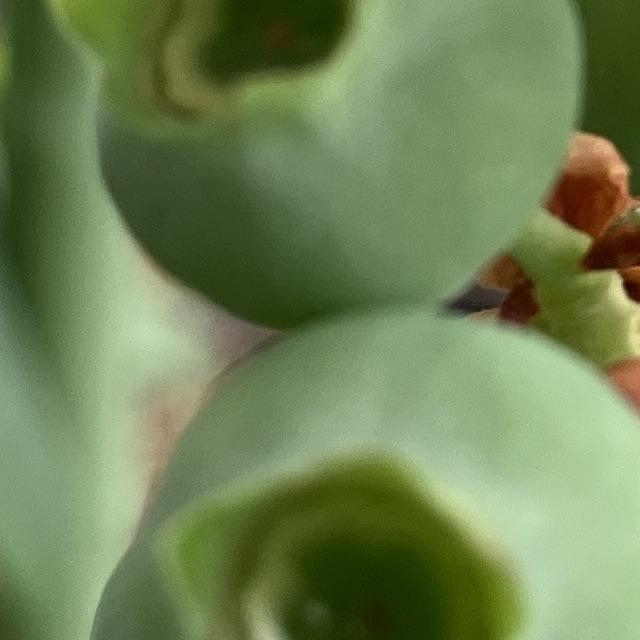Blueberries: (68, 305, 640, 640), (39, 0, 586, 326)
